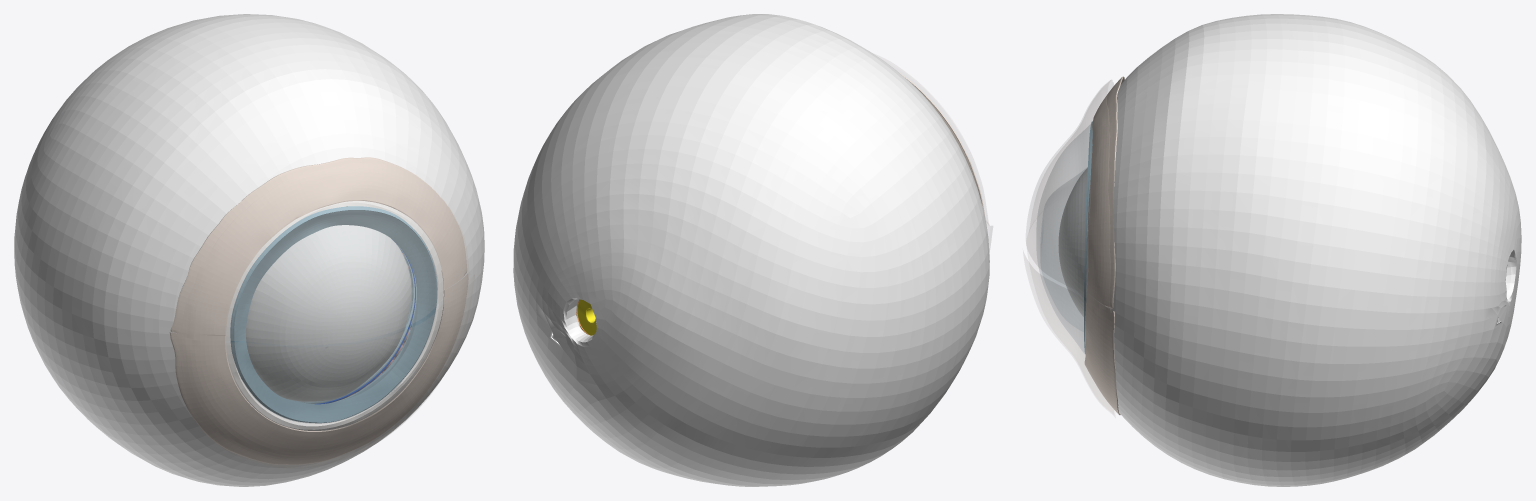
Rendered from eye-male-right.glb.
The picture shows the model from 3 angles, left to right: view 1: azimuth 30°, elevation 25°; view 2: azimuth 150°, elevation 25°; view 3: azimuth 270°, elevation 25°; orthographic projection.
Visible parts, largest first — view 1: VH_M_sclera_R, VH_M_palpebral_conjunctiva_of_upper_eyelid_R, VH_M_cornea_R, VH_M_bulbar_conjunctiva_R, VH_M_palpebral_conjunctiva_of_lower_eyelid_R, VH_M_aqueous_humor_R, VH_M_corneo_scleral_junction_R, VH_M_trabecular_meshwork_R; view 2: VH_M_sclera_R, VH_M_palpebral_conjunctiva_of_upper_eyelid_R; view 3: VH_M_sclera_R, VH_M_palpebral_conjunctiva_of_upper_eyelid_R, VH_M_bulbar_conjunctiva_R, VH_M_cornea_R, VH_M_palpebral_conjunctiva_of_lower_eyelid_R, VH_M_aqueous_humor_R, VH_M_corneo_scleral_junction_R.
Boxes of the visible parts, left/top/right/bottom form: VH_M_sclera_R: left=14, top=14, right=484, bottom=486; VH_M_palpebral_conjunctiva_of_upper_eyelid_R: left=177, top=162, right=469, bottom=344; VH_M_cornea_R: left=231, top=207, right=437, bottom=422; VH_M_bulbar_conjunctiva_R: left=169, top=157, right=468, bottom=464; VH_M_palpebral_conjunctiva_of_lower_eyelid_R: left=174, top=275, right=474, bottom=467; VH_M_aqueous_humor_R: left=246, top=225, right=411, bottom=401; VH_M_corneo_scleral_junction_R: left=230, top=206, right=437, bottom=423; VH_M_trabecular_meshwork_R: left=287, top=242, right=416, bottom=403; VH_M_sclera_R: left=513, top=14, right=989, bottom=486; VH_M_palpebral_conjunctiva_of_upper_eyelid_R: left=875, top=54, right=988, bottom=224; VH_M_sclera_R: left=1085, top=14, right=1521, bottom=486; VH_M_palpebral_conjunctiva_of_upper_eyelid_R: left=1026, top=80, right=1113, bottom=311; VH_M_bulbar_conjunctiva_R: left=1084, top=76, right=1124, bottom=414; VH_M_cornea_R: left=1037, top=124, right=1091, bottom=353; VH_M_palpebral_conjunctiva_of_lower_eyelid_R: left=1023, top=220, right=1115, bottom=417; VH_M_aqueous_humor_R: left=1058, top=168, right=1087, bottom=316; VH_M_corneo_scleral_junction_R: left=1084, top=121, right=1092, bottom=353.
Size of the model in its own units: 0.0245 by 0.0244 by 0.0257.
